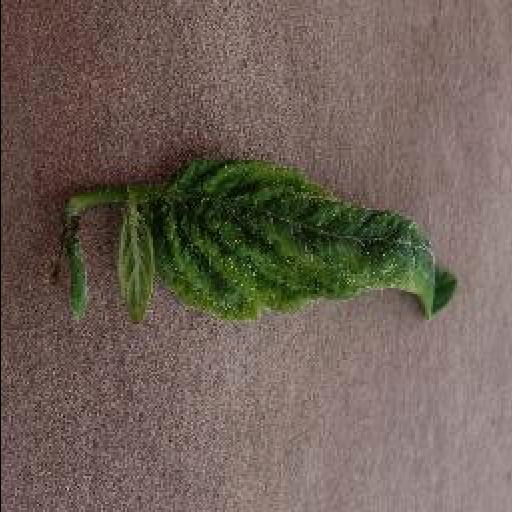disease_tomato: (156, 152, 458, 318)
